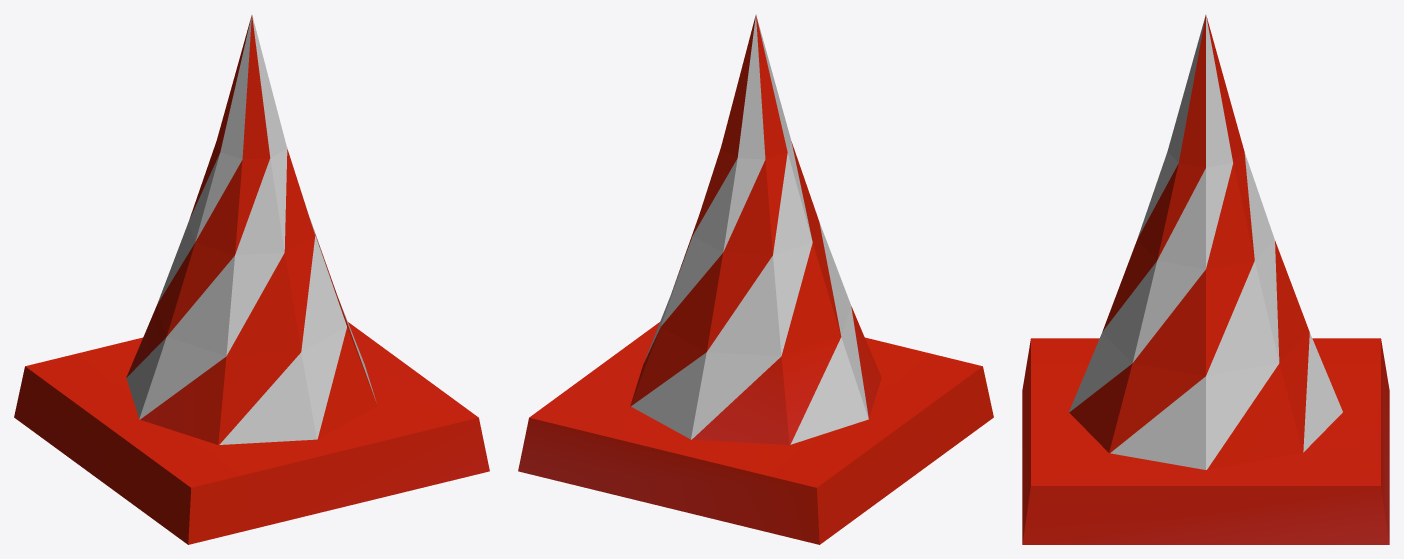
The picture shows the model from 3 angles, left to right: view 1: azimuth 30°, elevation 25°; view 2: azimuth 150°, elevation 25°; view 3: azimuth 270°, elevation 25°; orthographic projection. The views are drawn at different scales.
Visible parts, largest first — view 1: sm_cone; view 2: sm_cone; view 3: sm_cone.
Boxes of the visible parts, left/top/right/bottom form: sm_cone: left=14, top=15, right=489, bottom=544; sm_cone: left=518, top=15, right=993, bottom=544; sm_cone: left=1022, top=15, right=1389, bottom=544.
Size of the model in its own units: 167 by 227 by 167.
